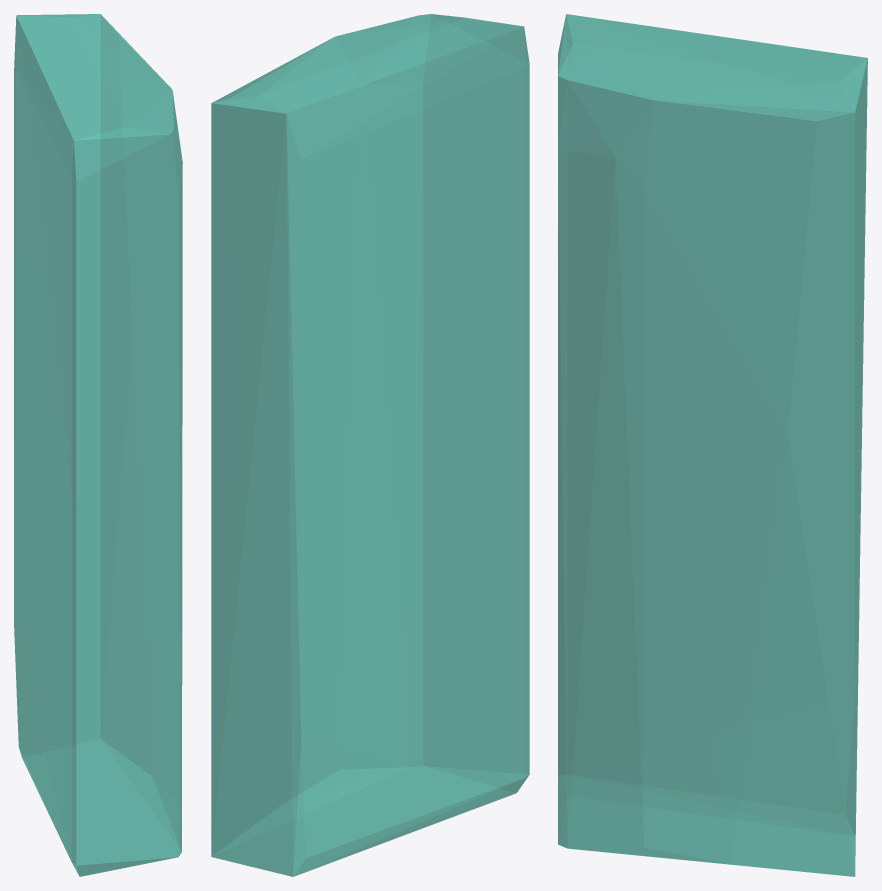
3 views of the same model, side by side, from view 1: azimuth 30°, elevation 25°; view 2: azimuth 150°, elevation 25°; view 3: azimuth 270°, elevation 25° (orthographic). The views are drawn at different scales.
Parts seen in each view (by area): view 1: Shape_IndexedFaceSet.016_Shape_IndexedFaceSet.18077; view 2: Shape_IndexedFaceSet.016_Shape_IndexedFaceSet.18077; view 3: Shape_IndexedFaceSet.016_Shape_IndexedFaceSet.18077.
Part boxes in pixels (box(x1,y1,x2,y2)): Shape_IndexedFaceSet.016_Shape_IndexedFaceSet.18077: box(14, 14, 182, 876); Shape_IndexedFaceSet.016_Shape_IndexedFaceSet.18077: box(211, 14, 529, 876); Shape_IndexedFaceSet.016_Shape_IndexedFaceSet.18077: box(558, 14, 867, 876).
Bounding box in the file's own units: 0.062 × 0.2647 × 0.0955.
